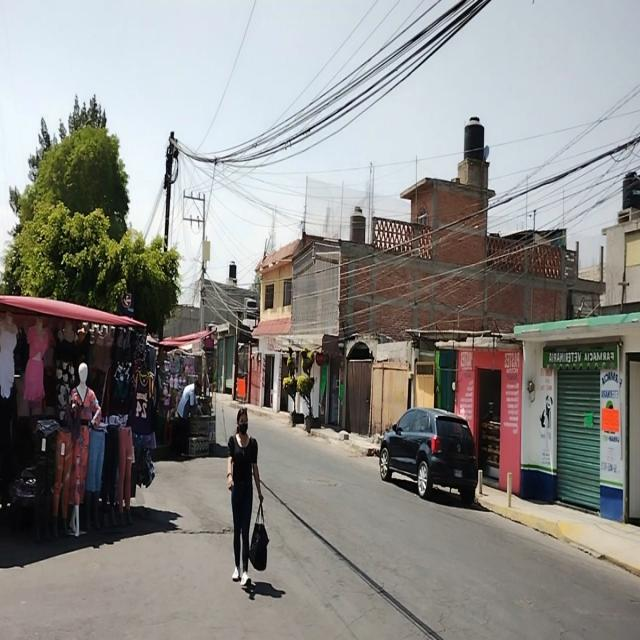adult: (226, 406, 262, 584)
